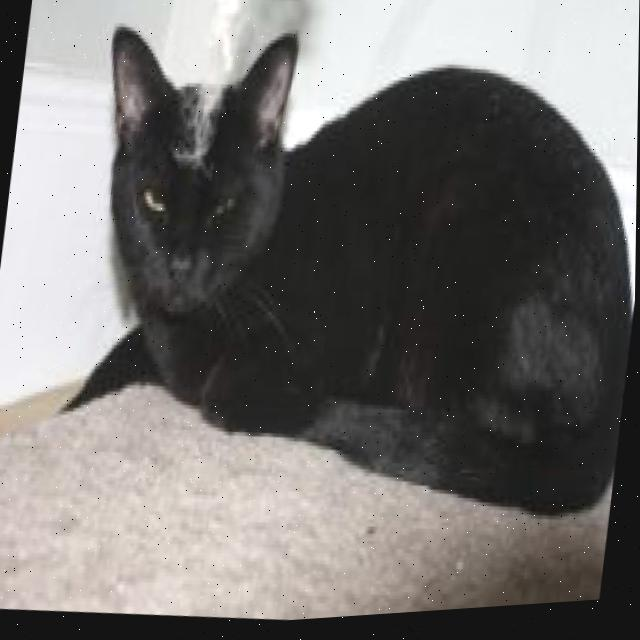Bombay: (43, 0, 640, 563)
